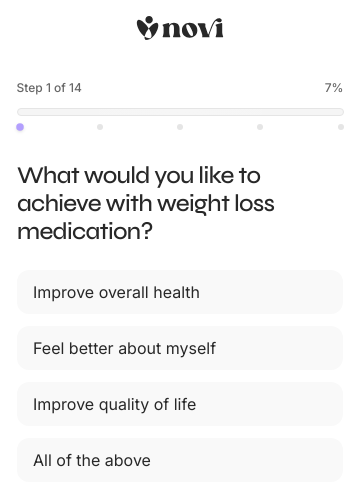
Fade Transition Effect › should transition from step 1 to step 2 when option is selected
# Find and click an option in step 1
Click the button "Improve overall health".
click(180, 292)  # box x1=17 y1=270 x2=343 y2=314
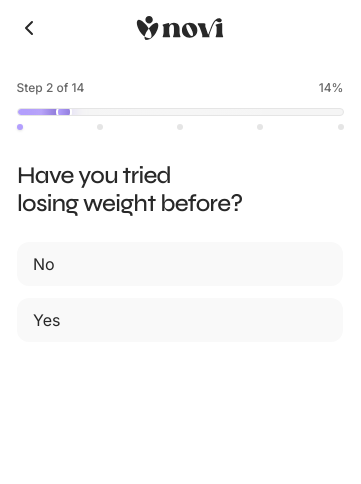
Expected: the heading "Have you tried losing weight before?" is shown, x1=17 y1=161 x2=243 y2=218
